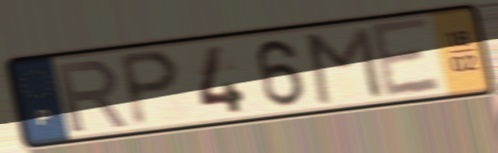4: (196, 42, 249, 116)
6: (252, 35, 309, 109)
E: (366, 15, 446, 102)
M: (303, 23, 387, 108)
P: (115, 47, 184, 131)
R: (52, 57, 132, 136)
